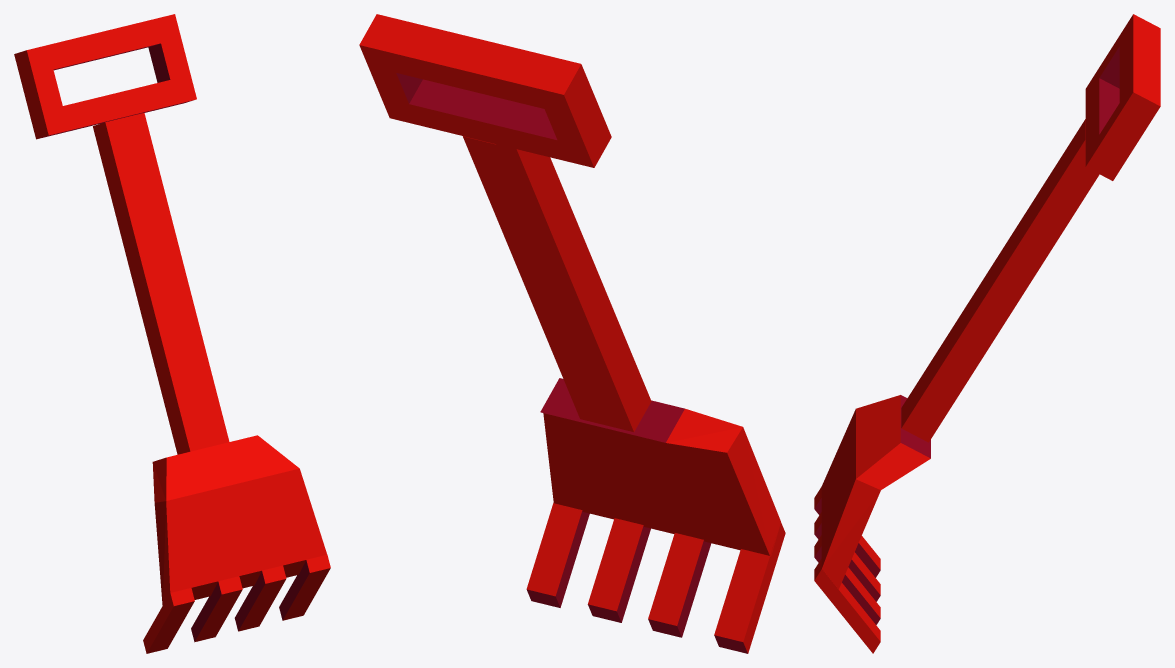
Rendered from ETC0610034.fbx.
3 renders of one model, left to right at view 1: azimuth 30°, elevation 25°; view 2: azimuth 150°, elevation 25°; view 3: azimuth 270°, elevation 25°, orthographic. The views are drawn at different scales.
Visible parts, largest first — view 1: smETC0610034; view 2: smETC0610034; view 3: smETC0610034.
Boxes of the visible parts, <box> form: smETC0610034: <box>14,14,330,653</box>; smETC0610034: <box>359,14,785,653</box>; smETC0610034: <box>814,14,1160,653</box>.
Bounding box in the file's own units: 25.49 × 79.89 × 45.
Materials: 1 (1 with a texture image).
